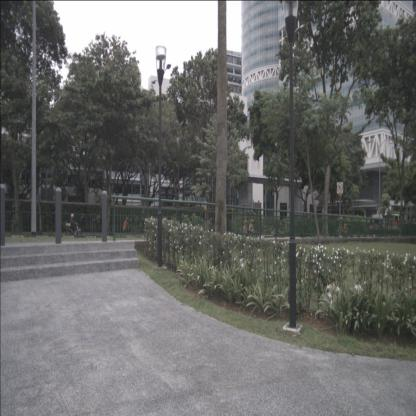human-pedestrian-adult: (5, 210, 13, 241), (123, 215, 128, 244), (227, 216, 232, 240), (275, 222, 280, 240)
vehicle-bicycle: (242, 204, 256, 238), (336, 214, 350, 236)
vehicle-motorcycle: (66, 214, 82, 238)
